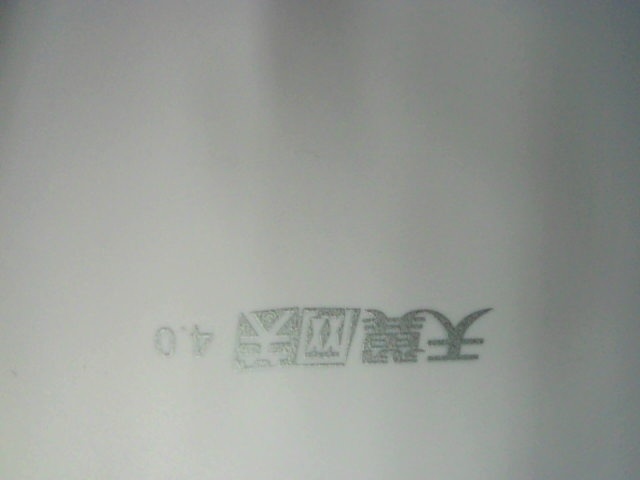BM_TianYiWangGuan: (148, 296, 498, 369)
